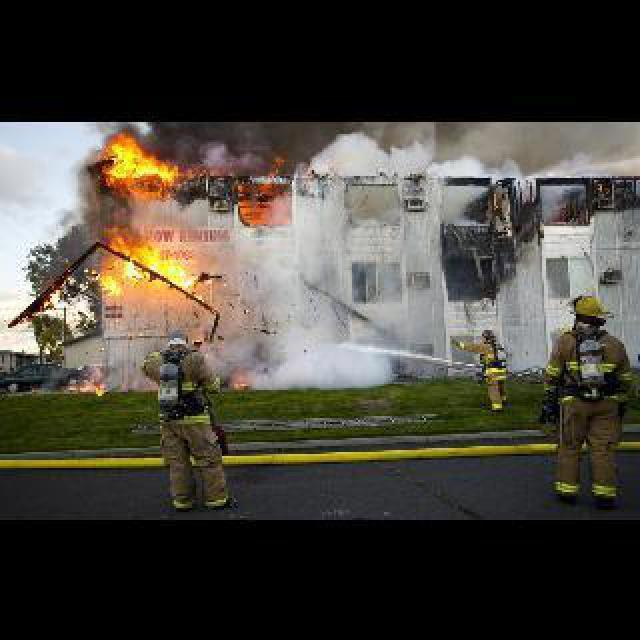Fire: (94, 128, 204, 304), (228, 156, 282, 228), (26, 274, 72, 316), (80, 380, 108, 392)
Smoke: (208, 230, 394, 386), (294, 122, 524, 188)
